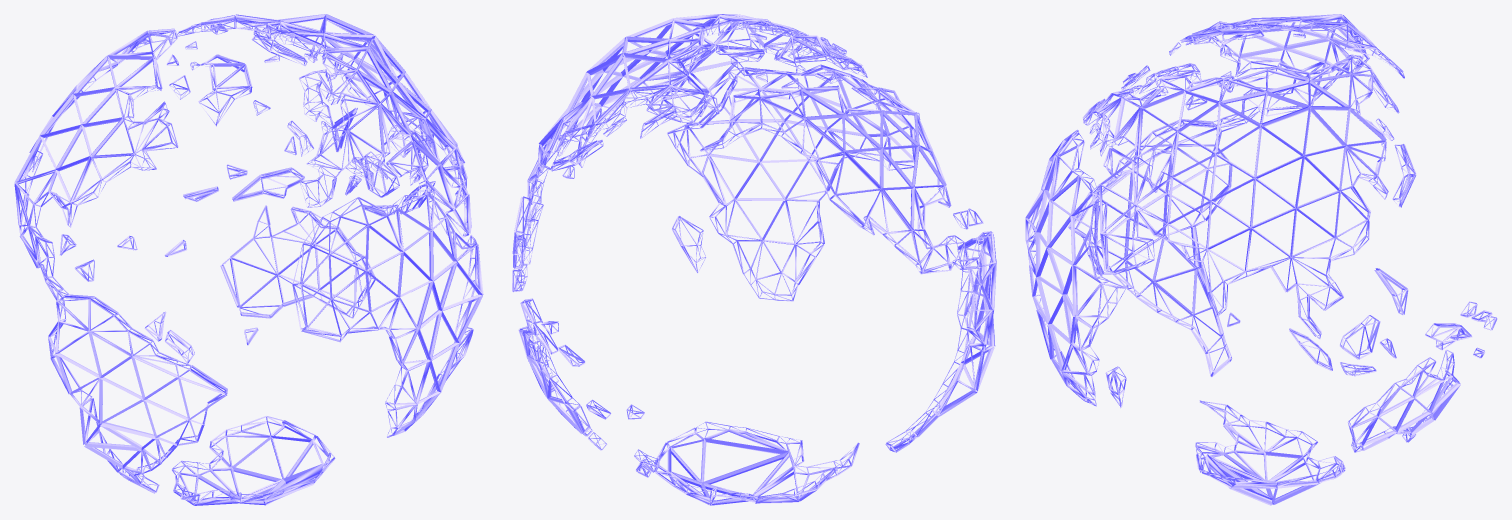
Rendered from earthwireglow.glb.
3 views of the same model, side by side, from view 1: azimuth 30°, elevation 25°; view 2: azimuth 150°, elevation 25°; view 3: azimuth 270°, elevation 25° (orthographic). The views are drawn at different scales.
Parts seen in each view (by area): view 1: earth4_lambert1_0; view 2: earth4_lambert1_0; view 3: earth4_lambert1_0.
Part boxes in pixels (box(x1,y1,x2,y2)): earth4_lambert1_0: box(14, 14, 483, 505); earth4_lambert1_0: box(512, 14, 996, 505); earth4_lambert1_0: box(1025, 14, 1497, 505).
Size of the model in its own units: 17.44 by 18.11 by 17.34.
